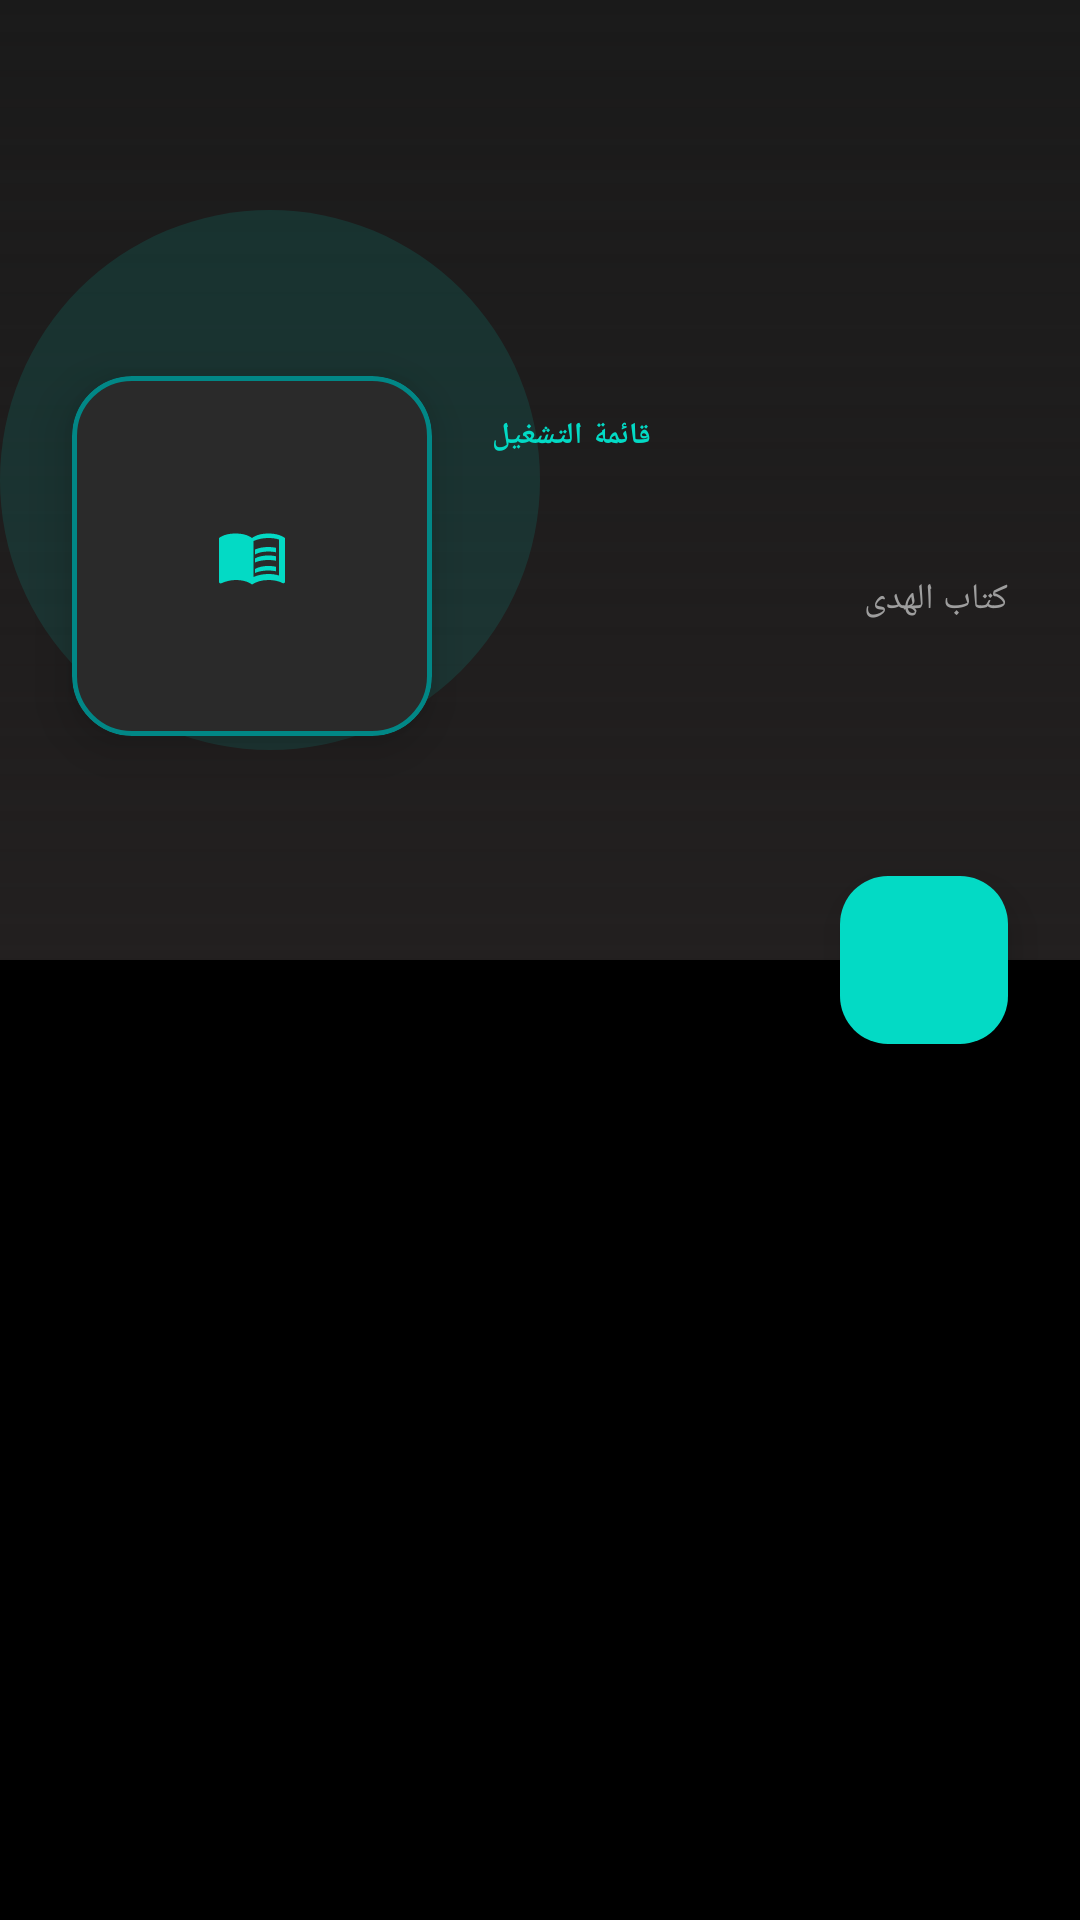

Icon click points for this 1080w x 1920h phone screenshot, format (x=x, y=y):
quran: (x=252, y=556)
